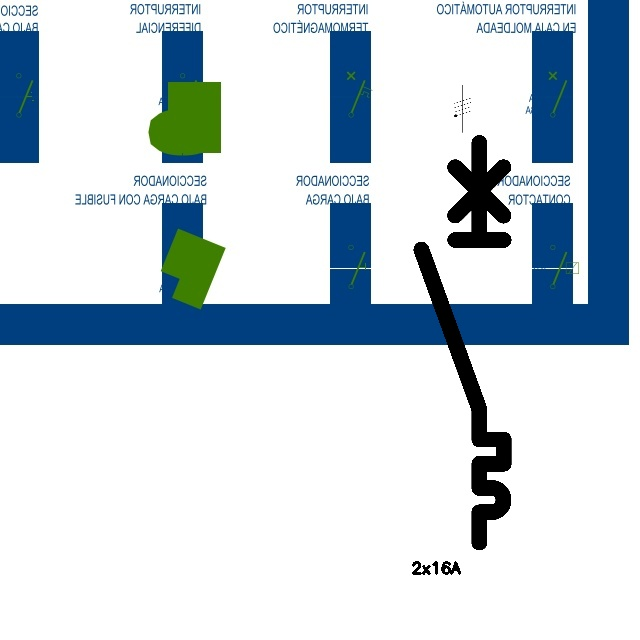interruptor_termomagnetico: (411, 132, 514, 553)
